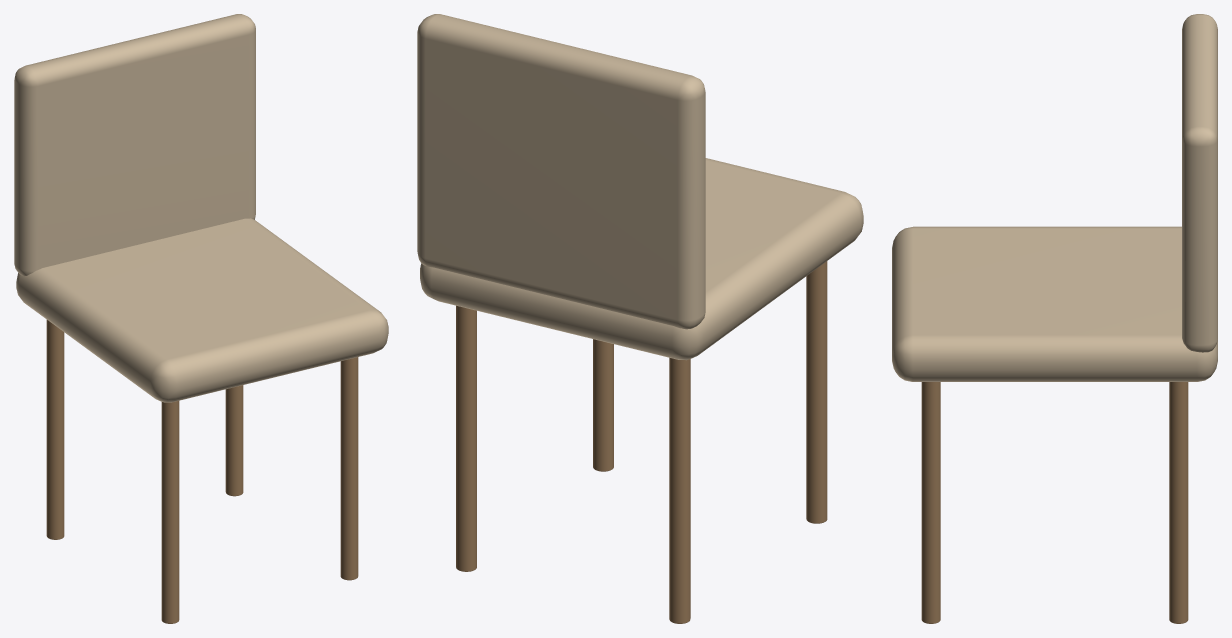
3 renders of one model, left to right at view 1: azimuth 30°, elevation 25°; view 2: azimuth 150°, elevation 25°; view 3: azimuth 270°, elevation 25°, orthographic. The views are drawn at different scales.
Visible parts, largest first — view 1: back, seat, leg_-1_1, leg_1_1, leg_-1_-1, leg_1_-1; view 2: back, seat, leg_-1_-1, leg_-1_1, leg_1_-1, leg_1_1; view 3: seat, back, leg_1_-1, leg_1_1.
Boxes of the visible parts, left/top/right/bottom form: back: left=14, top=14, right=255, bottom=276; seat: left=16, top=218, right=388, bottom=402; leg_-1_1: left=161, top=401, right=179, bottom=623; leg_1_1: left=340, top=357, right=358, bottom=580; leg_-1_-1: left=46, top=320, right=64, bottom=539; leg_1_-1: left=225, top=385, right=243, bottom=496; back: left=417, top=14, right=705, bottom=329; seat: left=420, top=158, right=863, bottom=360; leg_-1_-1: left=669, top=357, right=690, bottom=623; leg_-1_1: left=806, top=261, right=827, bottom=523; leg_1_-1: left=456, top=305, right=476, bottom=571; leg_1_1: left=593, top=339, right=613, bottom=471; seat: left=892, top=226, right=1217, bottom=381; back: left=1182, top=14, right=1217, bottom=352; leg_1_-1: left=1169, top=382, right=1188, bottom=623; leg_1_1: left=921, top=382, right=940, bottom=623.
Bounding box in the file's own units: 0.45 × 0.85 × 0.5.
